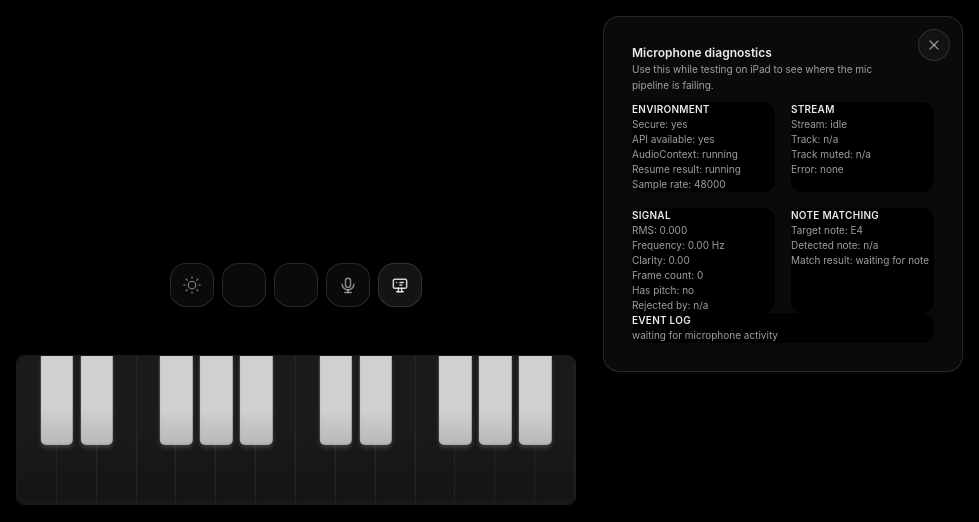
it: NoteDisplay › can hide and show the diagnostics panel
Check: the heading "Microphone diagnostics" is shown, box [632,45,772,60]
Check: the text "Secure: yes" is shown, box [632,118,688,130]
Click the button named "Hide diagnostics". click: [400, 285]
box: [378,263,422,307]
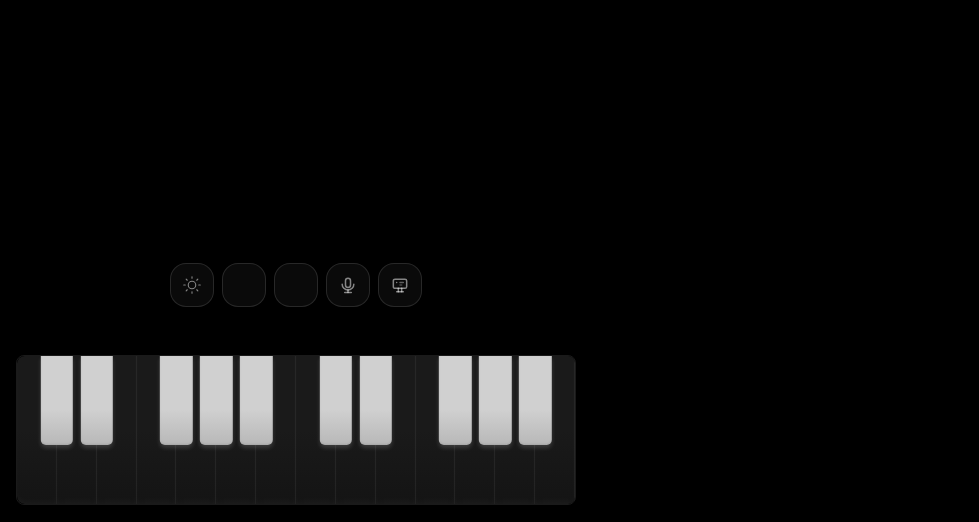
Check: the button named "Show diagnostics" is shown
Check: the text "Secure: yes" is gone
Click the button named "Show diagnostics". click: [400, 285]
box: [378,263,422,307]
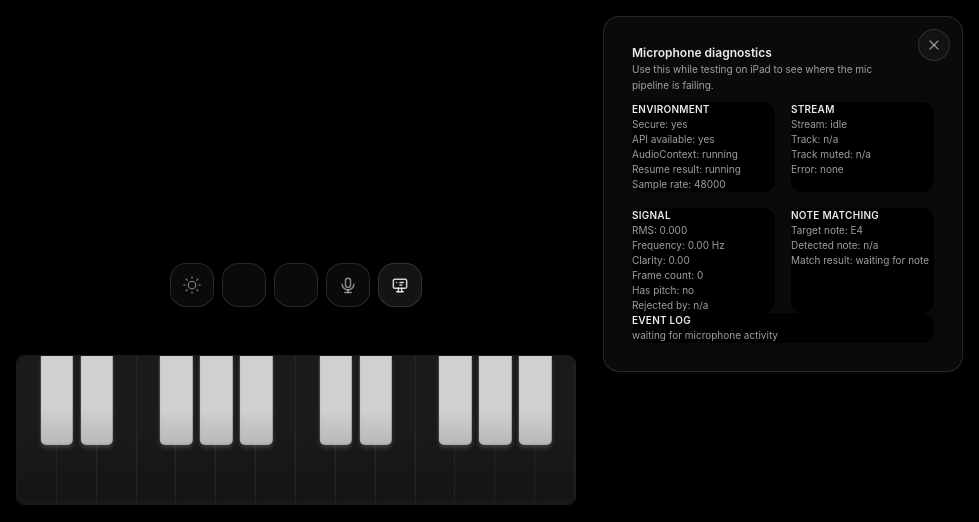
Check: the text "Secure: yes" is shown, box [632,118,688,130]
